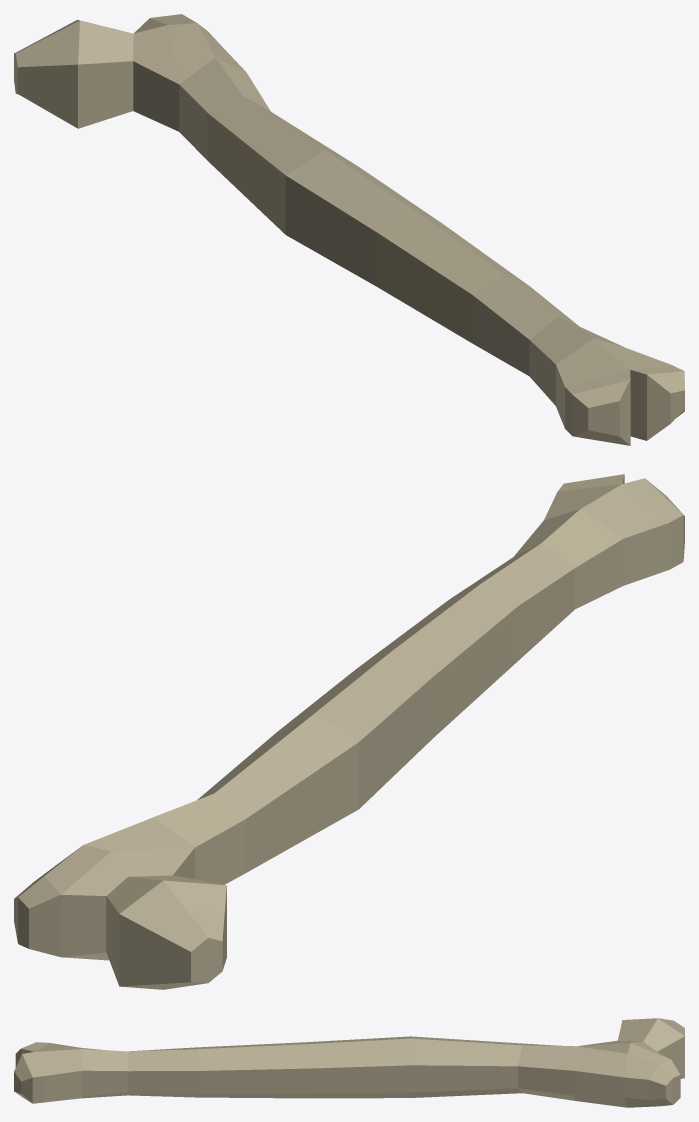
File: bone.gltf
The picture shows the model from 3 angles, top to bottom: view 1: azimuth 30°, elevation 25°; view 2: azimuth 150°, elevation 25°; view 3: azimuth 270°, elevation 25°; orthographic projection. The views are drawn at different scales.
Visible parts, largest first — view 1: Bone; view 2: Bone; view 3: Bone.
Boxes of the visible parts, box(x1,y1,x2,y2) form: Bone: box(14, 14, 684, 445); Bone: box(14, 474, 684, 989); Bone: box(14, 1018, 684, 1107).
Size of the model in its own units: 0.0885 by 0.0447 by 0.4305.
Materials: 1 (1 with a texture image).
